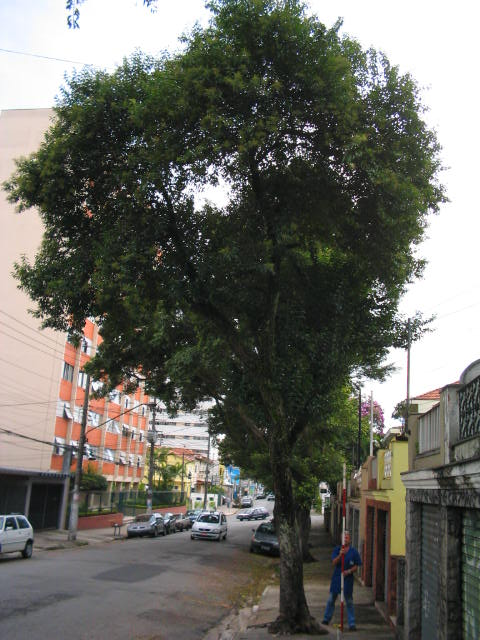crown: (8, 4, 451, 432)
stem: (255, 451, 331, 636)
stick: (334, 462, 352, 633)
tree: (4, 1, 454, 636)
